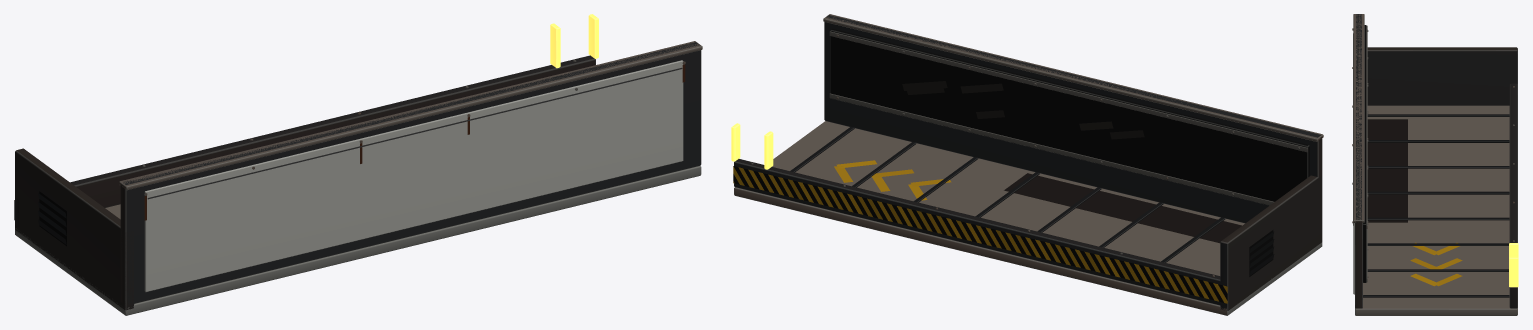
File: terrace_catcher.glb
3 renders of one model, left to right at view 1: azimuth 30°, elevation 25°; view 2: azimuth 150°, elevation 25°; view 3: azimuth 270°, elevation 25°, orthographic. The views are drawn at different scales.
Visible parts, largest first — view 1: Frame; view 2: Frame; view 3: Frame.
Part boxes in pixels (left/top/right/bottom): Frame: left=14, top=14, right=702, bottom=315; Frame: left=731, top=14, right=1323, bottom=315; Frame: left=1352, top=14, right=1518, bottom=315.
Size of the model in its own units: 6.04 by 1.3 by 2.04.
